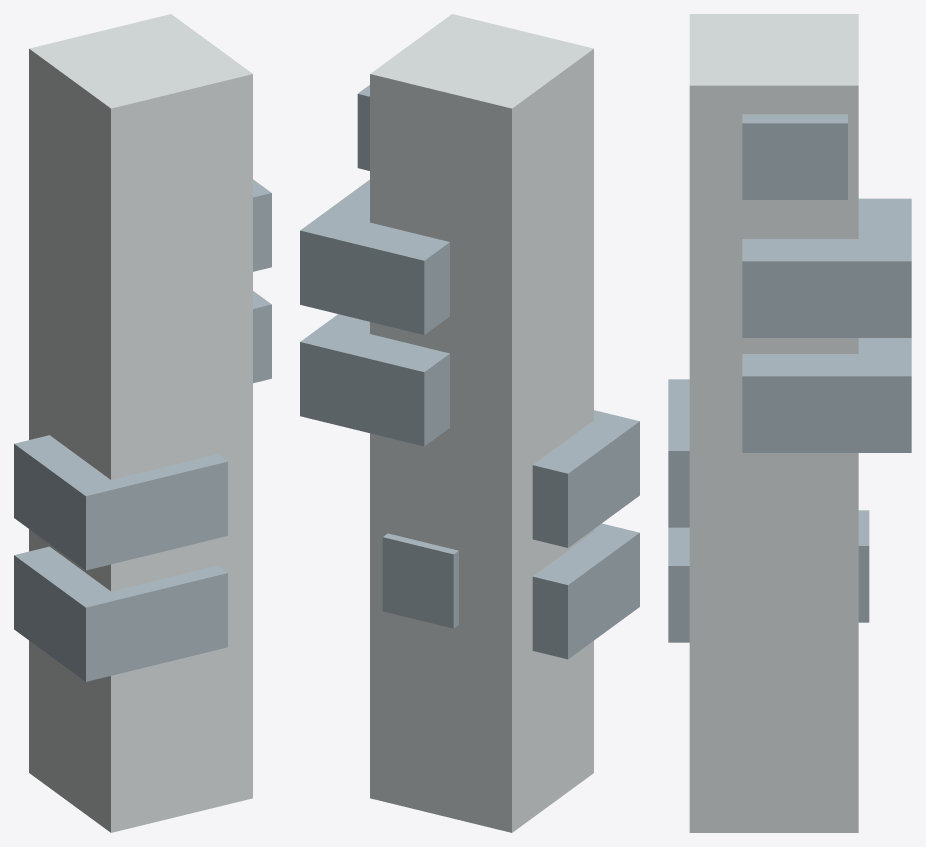
Rendered from building2.fbx.
The picture shows the model from 3 angles, left to right: view 1: azimuth 30°, elevation 25°; view 2: azimuth 150°, elevation 25°; view 3: azimuth 270°, elevation 25°; orthographic projection. The views are drawn at different scales.
Visible parts, largest first — view 1: group1521255258, group1807037044, group1809338549, group975621256, group79531286; view 2: group1521255258, group975621256, group79531286, group1807037044, group1809338549, group716014019, group430916609; view 3: group1521255258, group975621256, group79531286, group430916609, group1807037044, group1809338549, group716014019.
Boxes of the visible parts, box(x1,y1,x2,y2) form: group1521255258: box(29, 14, 252, 832); group1807037044: box(14, 435, 227, 570); group1809338549: box(14, 546, 227, 681); group975621256: box(253, 179, 271, 271); group79531286: box(253, 291, 271, 383); group1521255258: box(370, 14, 593, 832); group975621256: box(300, 179, 449, 334); group79531286: box(300, 314, 449, 446); group1807037044: box(532, 410, 639, 547); group1809338549: box(532, 523, 639, 659); group716014019: box(382, 533, 458, 628); group430916609: box(357, 85, 369, 170); group1521255258: box(689, 14, 858, 832); group975621256: box(742, 198, 911, 337); group79531286: box(742, 338, 911, 452); group430916609: box(742, 114, 847, 199); group1807037044: box(668, 379, 689, 527); group1809338549: box(668, 527, 689, 642); group716014019: box(858, 510, 869, 622).
Bounding box in the file's own units: 12.5 × 39 × 11.5.
